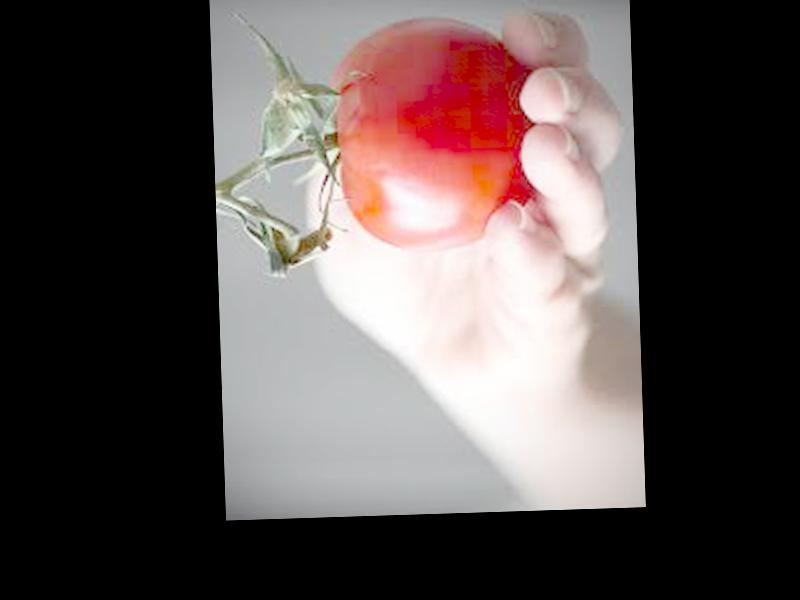Tomato: (325, 14, 536, 252)
